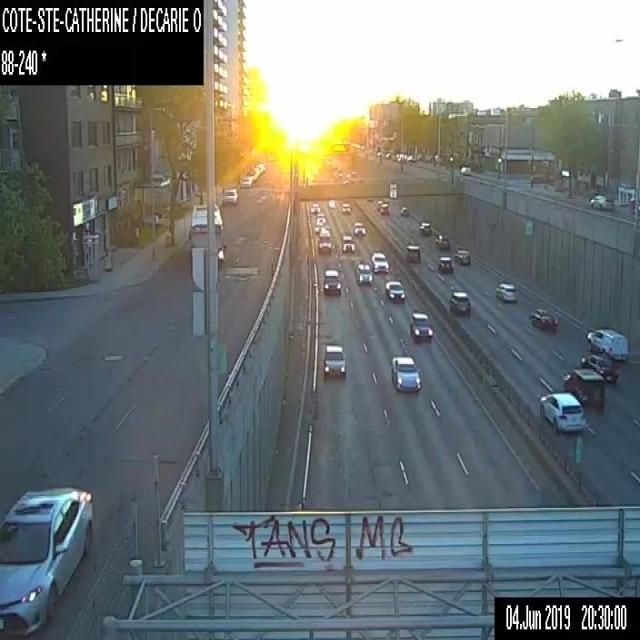bus: (189, 203, 226, 266)
vehicle: (0, 488, 93, 639), (538, 392, 584, 433), (562, 368, 605, 410), (586, 329, 627, 358), (391, 355, 421, 393), (580, 354, 618, 383), (529, 307, 560, 332), (322, 346, 346, 378), (410, 310, 432, 342), (449, 288, 474, 313), (322, 268, 341, 296), (495, 280, 516, 303), (385, 280, 405, 302), (317, 224, 331, 253), (589, 194, 614, 209), (371, 251, 388, 273), (355, 262, 371, 284), (436, 255, 453, 273), (406, 244, 421, 263), (223, 186, 238, 204), (455, 248, 470, 264), (435, 233, 450, 249), (341, 234, 354, 251), (417, 220, 431, 234), (353, 220, 365, 234), (316, 212, 326, 225), (460, 162, 470, 175), (310, 200, 319, 213), (379, 203, 389, 214), (240, 176, 250, 187), (399, 205, 408, 216), (342, 202, 350, 213), (376, 200, 382, 208)
